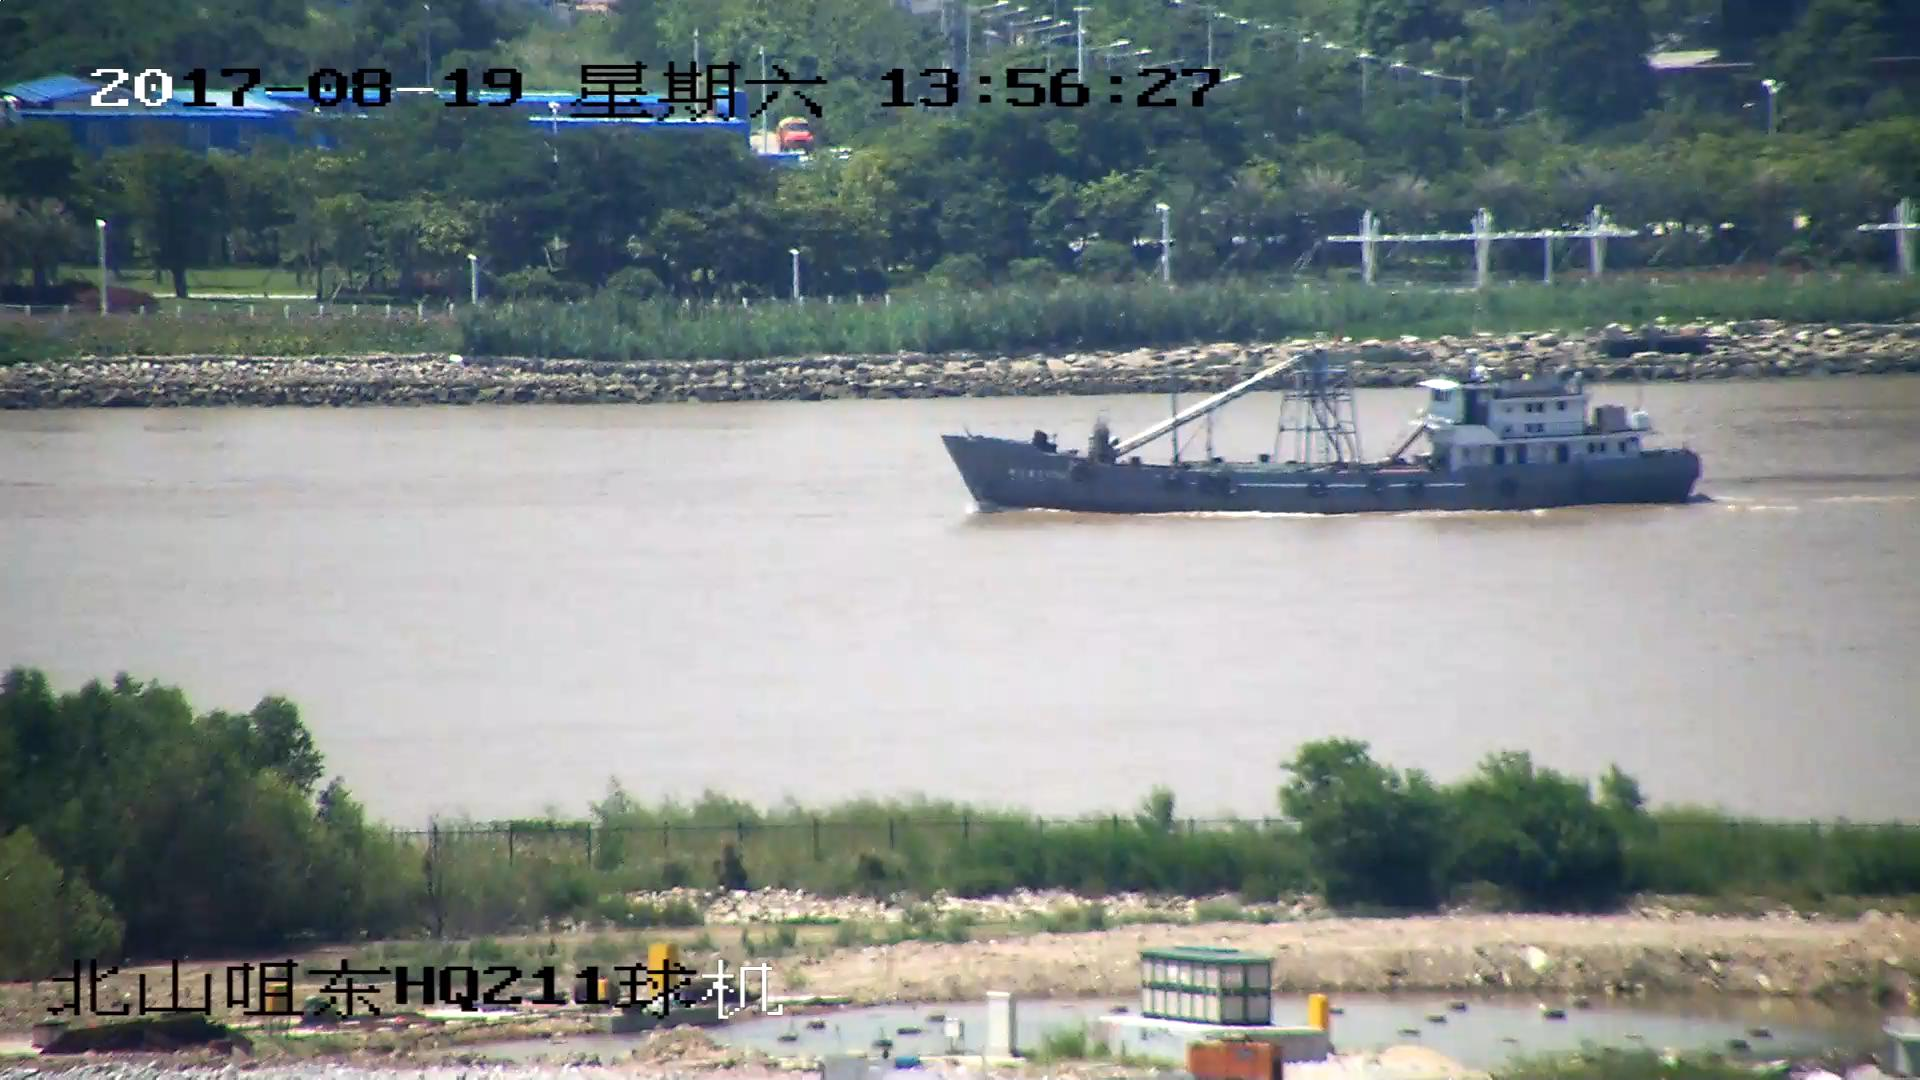fishing boat: (948, 345, 1702, 515)
